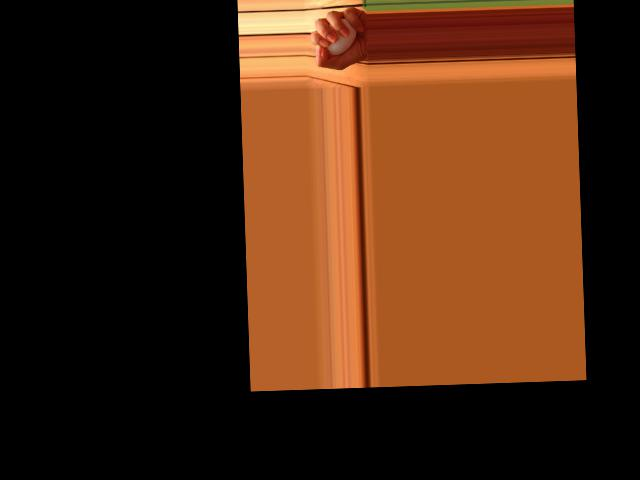egg: (322, 17, 357, 55)
